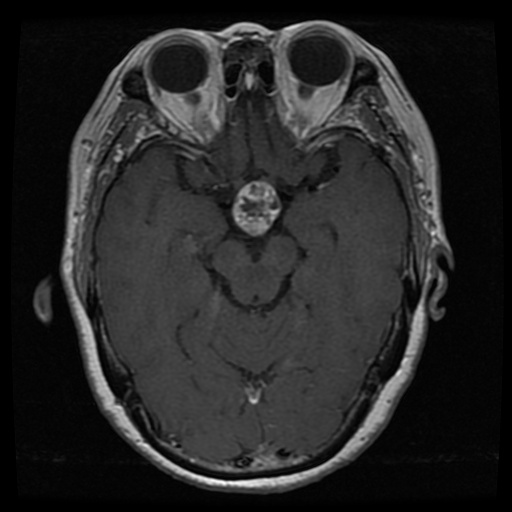pituitary: (232, 180, 283, 236)
